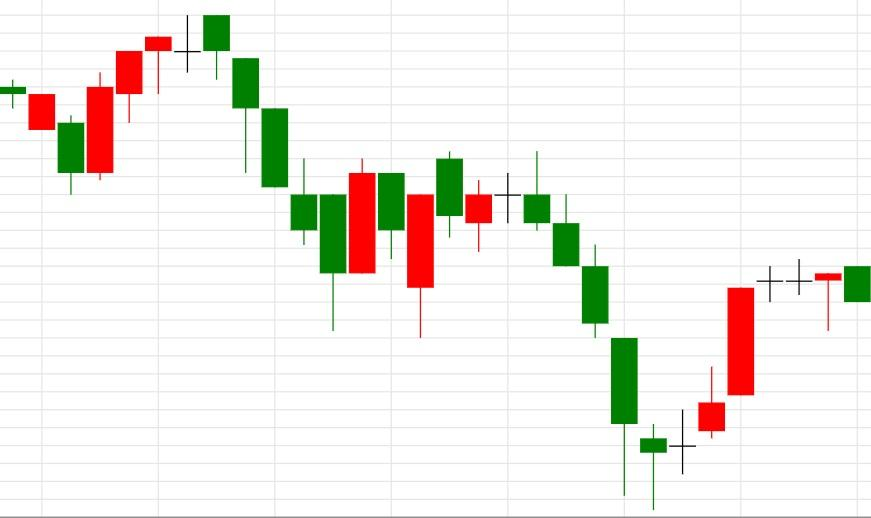three_black_crows_fall: (319, 150, 609, 338), (57, 14, 289, 195)
